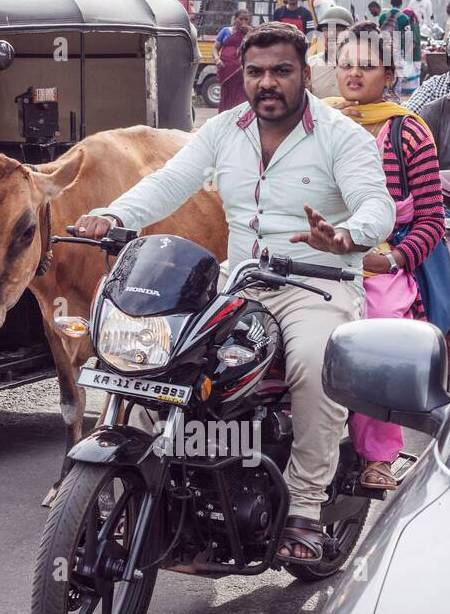motor: (37, 221, 443, 608)
no helmet: (241, 24, 307, 118), (333, 22, 393, 102)
number: (77, 365, 190, 404)
